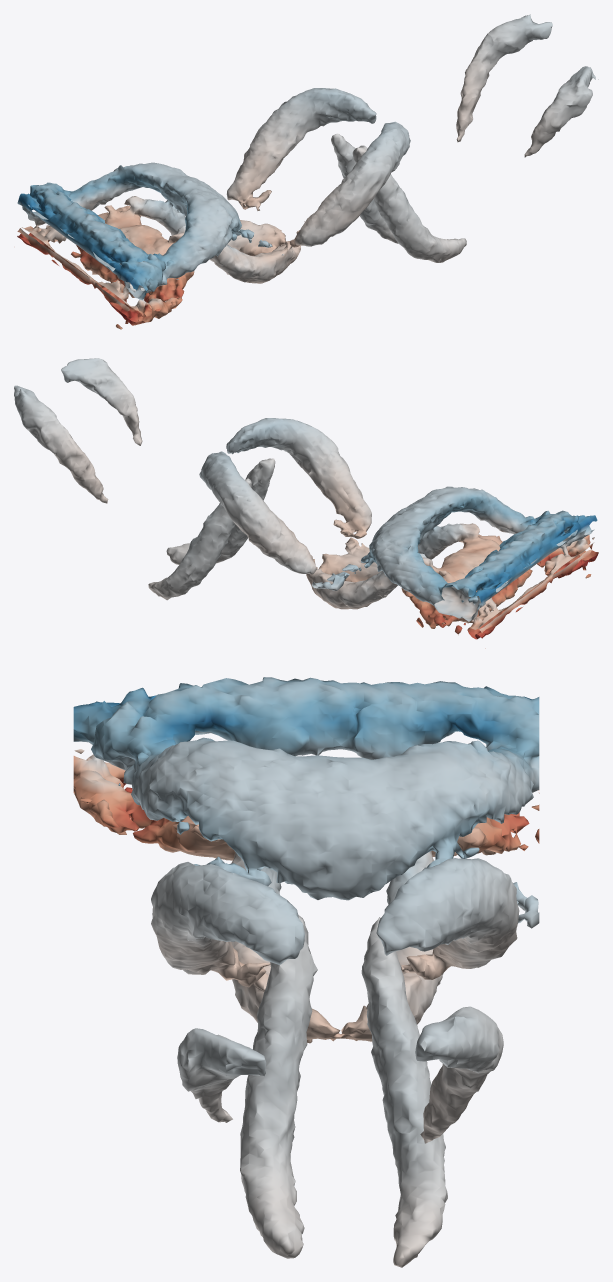
Rendered from q085-full.glb.
3 renders of one model, top to bottom at view 1: azimuth 30°, elevation 25°; view 2: azimuth 150°, elevation 25°; view 3: azimuth 270°, elevation 25°, orthographic. The views are drawn at different scales.
Size of the model in its own units: 6.32 by 2.25 by 2.54.
